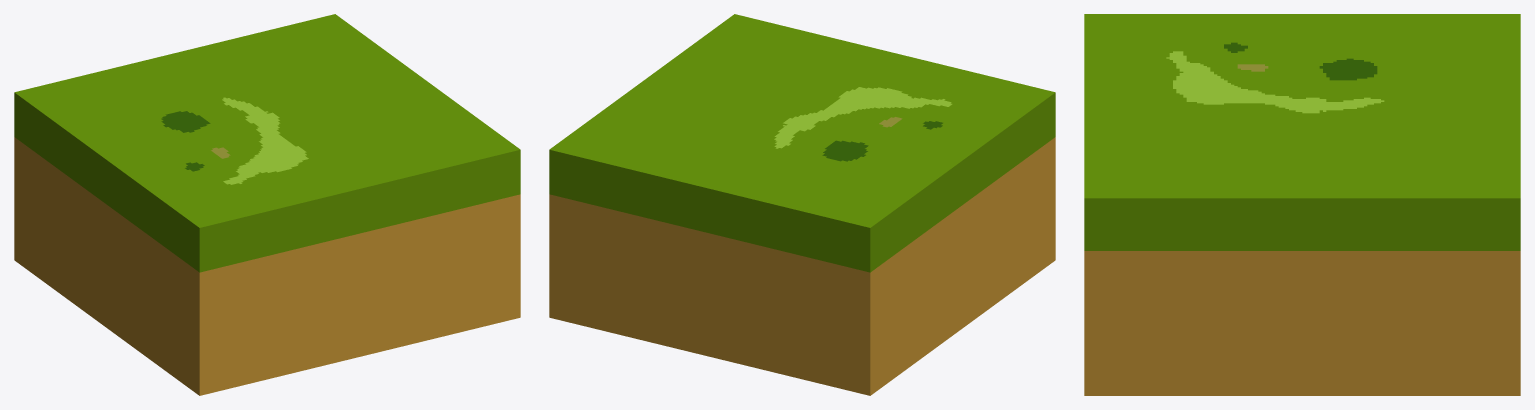
3 renders of one model, left to right at view 1: azimuth 30°, elevation 25°; view 2: azimuth 150°, elevation 25°; view 3: azimuth 270°, elevation 25°, orthographic. The views are drawn at different scales.
Parts seen in each view (by area): view 1: 16C; view 2: 16C; view 3: 16C.
Part boxes in pixels (box(x1,y1,x2,y2)): 16C: box(14, 14, 520, 395); 16C: box(549, 14, 1055, 395); 16C: box(1084, 14, 1520, 395).
Size of the model in its own units: 12.8 by 6.4 by 12.8.
1 material, 1 textured.
